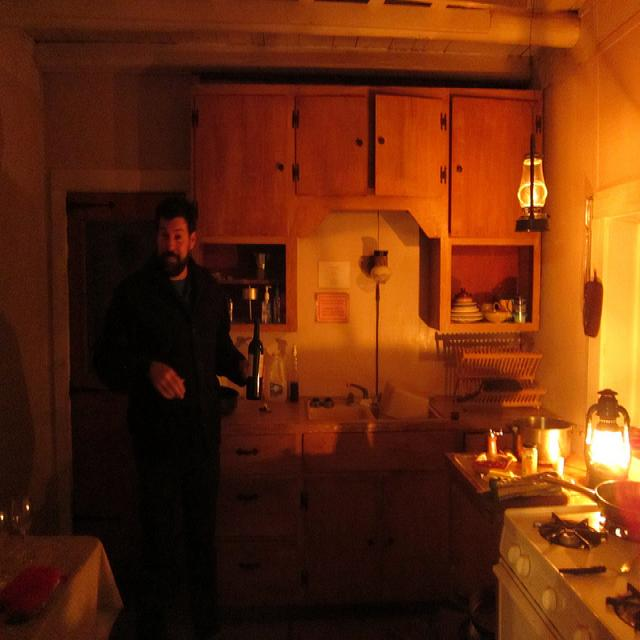Bottle: (248, 294, 272, 425)
Cup: (0, 483, 38, 549)
People: (134, 170, 222, 572)
Table: (0, 532, 138, 640)
